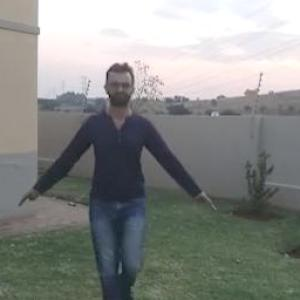land: (17, 66, 204, 298)
